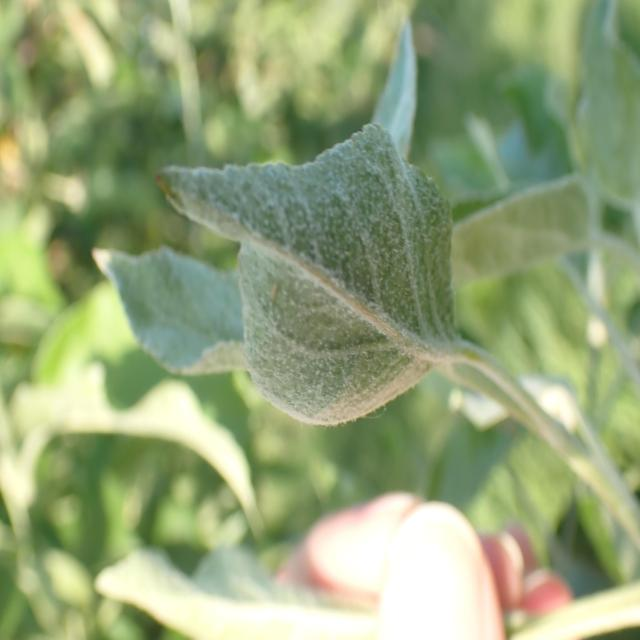Powdery_mildew: (161, 118, 499, 420), (81, 232, 252, 414)
